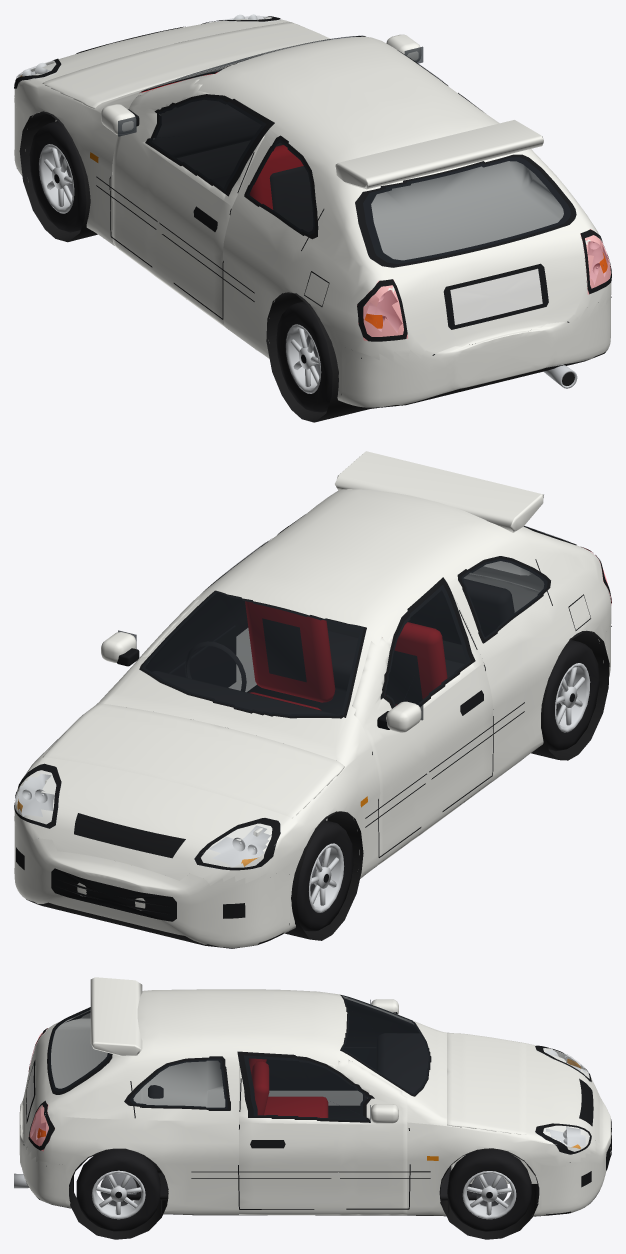
The model's file is HayateR99.glb.
3 renders of one model, top to bottom at view 1: azimuth 30°, elevation 25°; view 2: azimuth 150°, elevation 25°; view 3: azimuth 270°, elevation 25°, orthographic. The views are drawn at different scales.
Visible parts, largest first — view 1: Body_Paint__f4f4ee, Body_Glass__1d242c, Door_L_Paint__f4f4ee, FrontBumper_Paint__f4f4ee, RearBumper_Paint__f4f4ee, Hood_Paint__f4f4ee, Body, Body_Under__1c1c1d, Door_L_Glass__1d242c, Body_Interior__1f1f21, Spoiler_Paint__f4f4ee, Body_Plate__ededeb (+11 smaller); view 2: Body_Paint__f4f4ee, Body_Glass__1d242c, Door_L_Paint__f4f4ee, Hood_Paint__f4f4ee, Body_Interior__1f1f21, FrontBumper_Paint__f4f4ee, Body_Seat__b8161d, Spoiler_Paint__f4f4ee, Body_Under__1c1c1d, Door_L_Glass__1d242c, FrontBumper, Body (+14 smaller); view 3: Body_Paint__f4f4ee, Door_R_Paint__f4f4ee, Body_Glass__1d242c, FrontBumper_Paint__f4f4ee, Hood_Paint__f4f4ee, Door_R_Glass__1d242c, Body_Interior__1f1f21, Spoiler_Paint__f4f4ee, Wheel_RR_Rubber__1b1b1d, Wheel_FR_Rubber__1b1b1d, Body, Body_Under__1c1c1d (+14 smaller).
Part boxes in pixels (box(x1,y1,x2,y2)): Body_Paint__f4f4ee: box(14, 16, 611, 402); Body_Glass__1d242c: box(143, 35, 570, 263); Door_L_Paint__f4f4ee: box(101, 79, 264, 327); FrontBumper_Paint__f4f4ee: box(14, 98, 563, 260); RearBumper_Paint__f4f4ee: box(341, 292, 611, 407); Hood_Paint__f4f4ee: box(42, 22, 331, 108); Body: box(109, 36, 611, 358); Body_Under__1c1c1d: box(19, 111, 606, 422); Door_L_Glass__1d242c: box(118, 97, 266, 191); Body_Interior__1f1f21: box(152, 100, 315, 366); Spoiler_Paint__f4f4ee: box(334, 120, 543, 189); Body_Plate__ededeb: box(450, 268, 542, 324); Body_Paint__f4f4ee: box(14, 489, 611, 931); Body_Glass__1d242c: box(142, 526, 561, 716); Door_L_Paint__f4f4ee: box(352, 595, 492, 865); Hood_Paint__f4f4ee: box(42, 703, 344, 818); Body_Interior__1f1f21: box(146, 578, 557, 714); FrontBumper_Paint__f4f4ee: box(14, 561, 532, 947); Body_Seat__b8161d: box(245, 601, 447, 710); Spoiler_Paint__f4f4ee: box(335, 451, 543, 532); Body_Under__1c1c1d: box(26, 621, 609, 948); Door_L_Glass__1d242c: box(384, 585, 470, 720); FrontBumper: box(16, 813, 245, 921); Body: box(139, 514, 611, 857); Body_Paint__f4f4ee: box(20, 989, 599, 1216); Door_R_Paint__f4f4ee: box(239, 1059, 407, 1215); Body_Glass__1d242c: box(48, 995, 430, 1108); FrontBumper_Paint__f4f4ee: box(51, 1010, 611, 1215); Hood_Paint__f4f4ee: box(447, 1032, 526, 1134); Door_R_Glass__1d242c: box(244, 1055, 370, 1122); Body_Interior__1f1f21: box(67, 998, 476, 1200); Spoiler_Paint__f4f4ee: box(90, 977, 142, 1056); Wheel_RR_Rubber__1b1b1d: box(76, 1149, 160, 1231); Wheel_FR_Rubber__1b1b1d: box(447, 1149, 531, 1231); Body: box(23, 995, 431, 1209); Body_Under__1c1c1d: box(26, 1148, 599, 1239).
Bounding box in the file's own units: 1.89 × 1.4 × 4.23.
